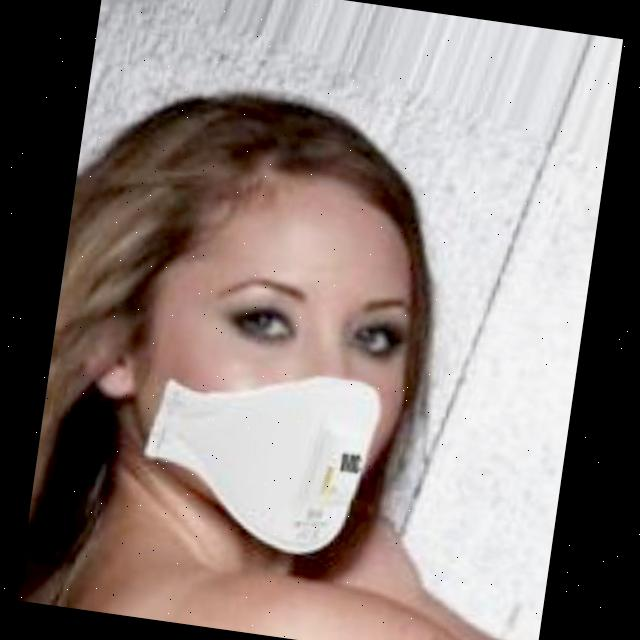suspicion: (60, 95, 488, 542)
